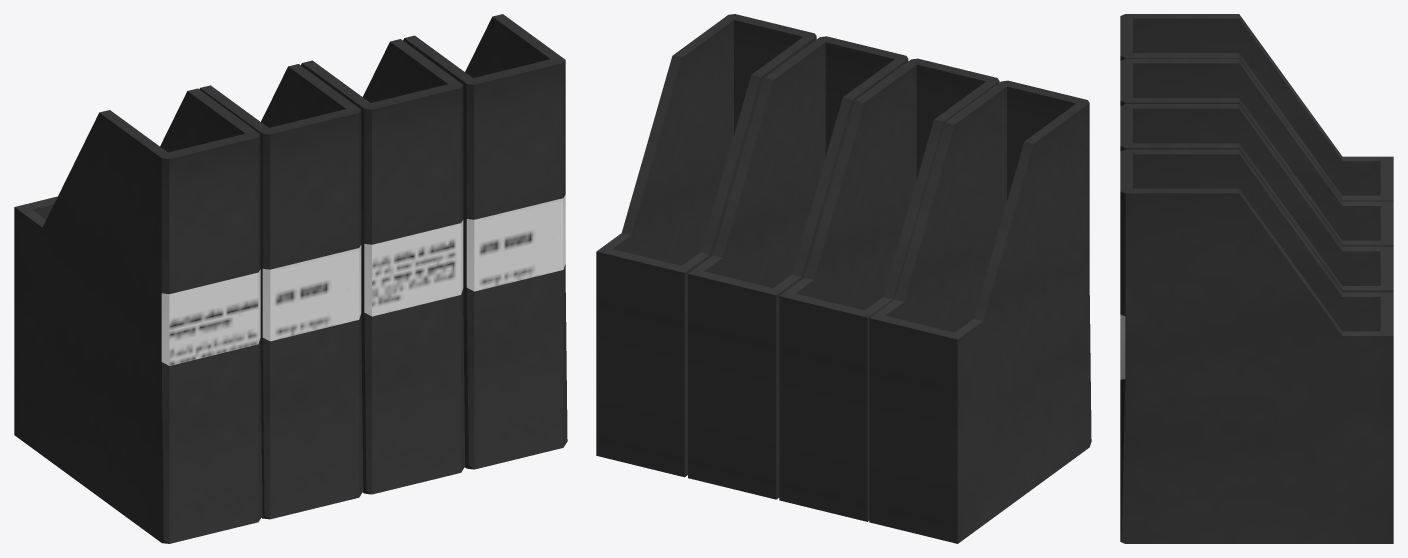
The model's file is document_folder_group_1.fbx.
3 renders of one model, left to right at view 1: azimuth 30°, elevation 25°; view 2: azimuth 150°, elevation 25°; view 3: azimuth 270°, elevation 25°, orthographic. The views are drawn at different scales.
Parts seen in each view (by area): view 1: document_folder_group_1; view 2: document_folder_group_1; view 3: document_folder_group_1.
Part boxes in pixels (<box>): document_folder_group_1: <box>14,14,567,543</box>; document_folder_group_1: <box>596,14,1091,543</box>; document_folder_group_1: <box>1120,14,1393,543</box>.
Size of the model in its own units: 33.94 by 30.92 by 21.86.
